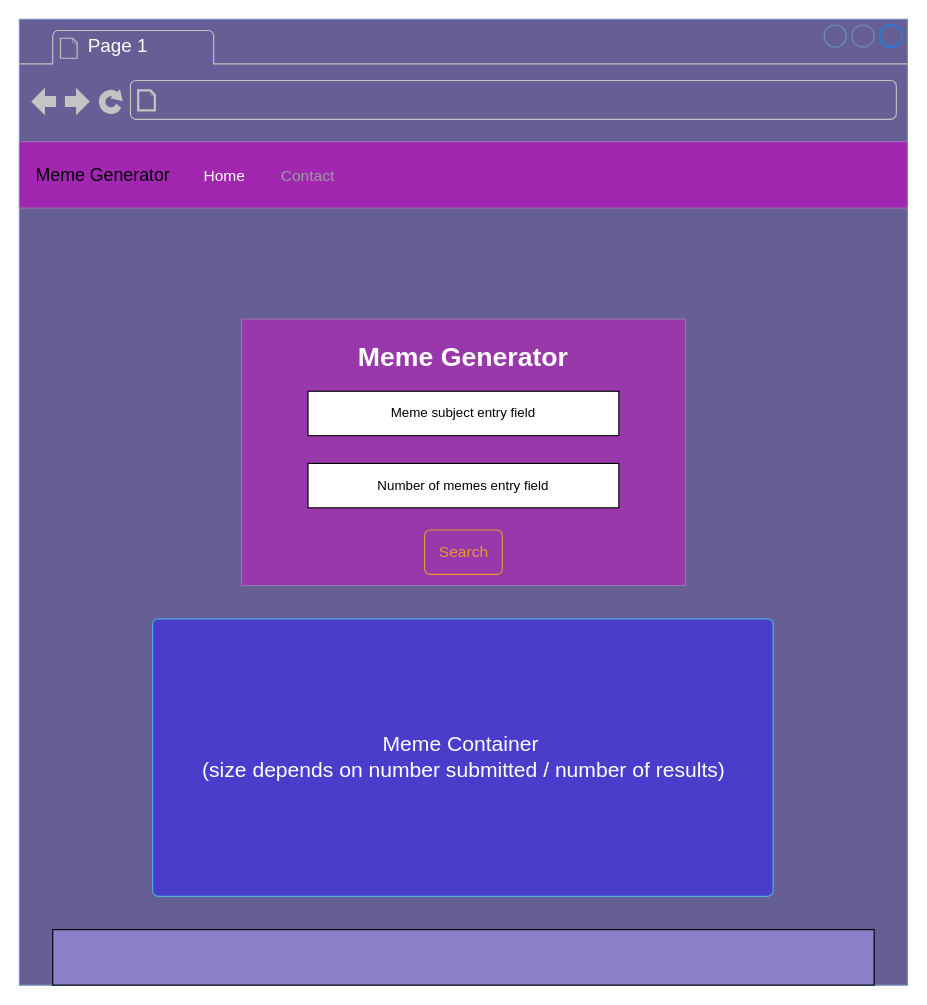
The diagram is 927 pixels wide and 1005 high, and some of its shapes have lost their labels. The centre of each missing label's shape, as x and y in pixels:
"https://www.meme-gen.example" goes at [302,100].
"Meme Generator 2024 - Home - Contact" goes at [463,957].
